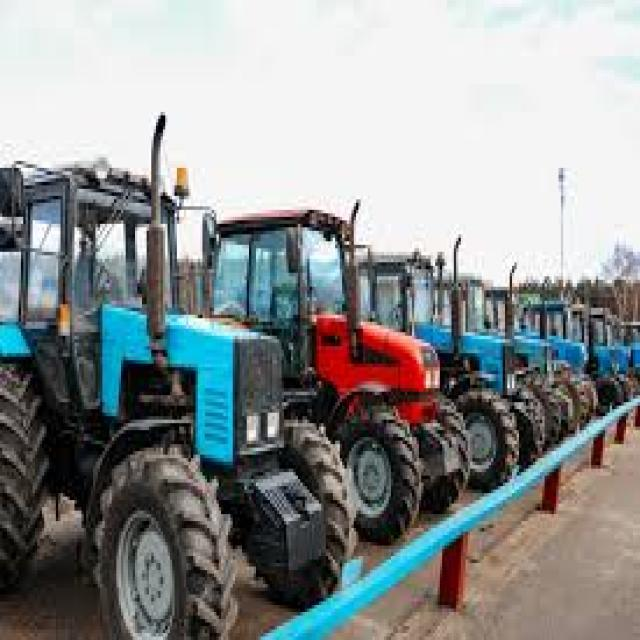Tratores - v5 YOLO V8L 2024-11-13: (0, 161, 351, 640), (215, 210, 470, 545), (352, 254, 545, 490), (489, 284, 640, 430)
